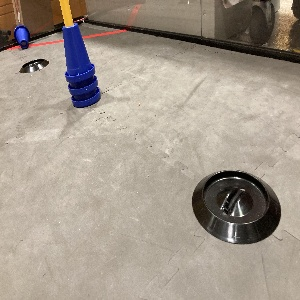Blue_1: (60, 21, 102, 111), (12, 22, 31, 50)
